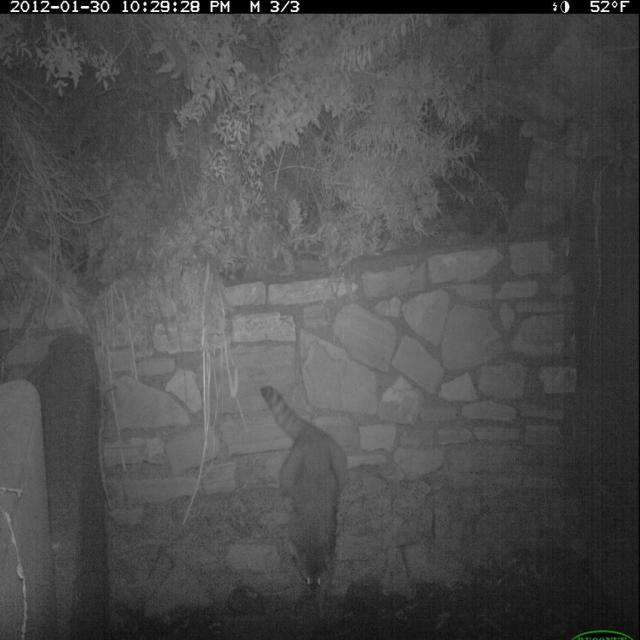raccoon: (262, 381, 354, 622)
